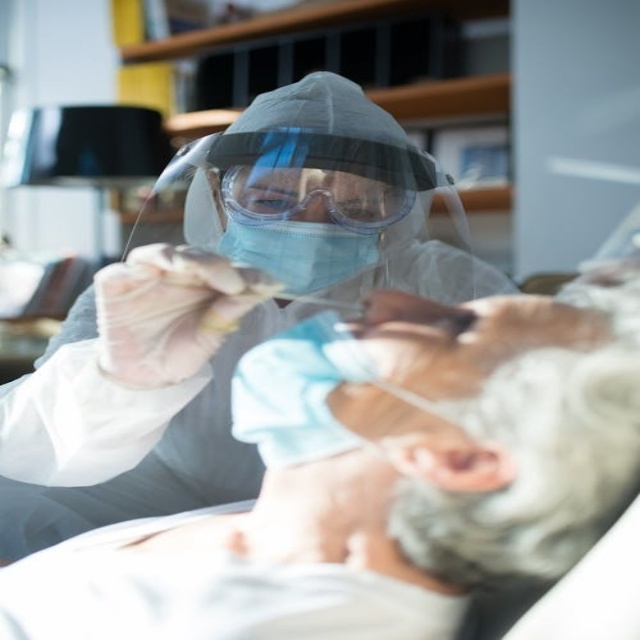Gafas: (216, 160, 417, 235)
Guantes: (92, 239, 289, 386)
Mascara: (229, 310, 385, 470), (216, 206, 387, 299)
Sin_gafas: (412, 287, 544, 411)
